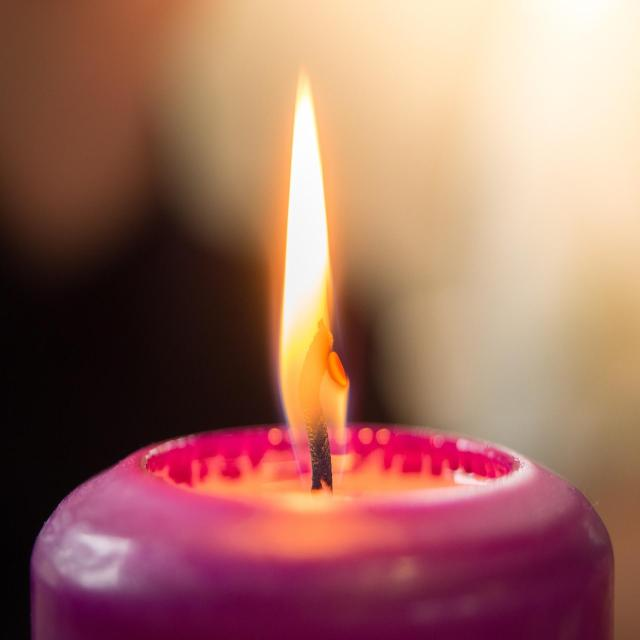Fire_Save: (29, 65, 616, 638), (277, 65, 350, 492)
